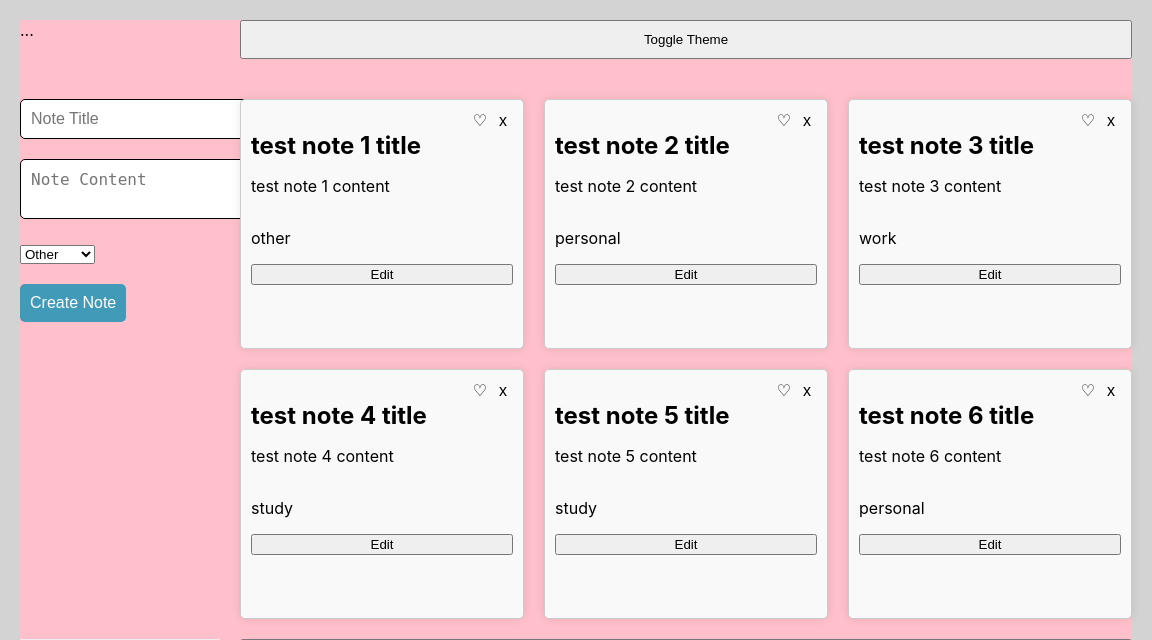
Test: Create StickyNote › Deletes note when x is clicked
Expected: the heading "test note 1 title" is shown, [251, 131, 421, 160]
Click the 1st button "x": (503, 120) [493, 110, 513, 131]
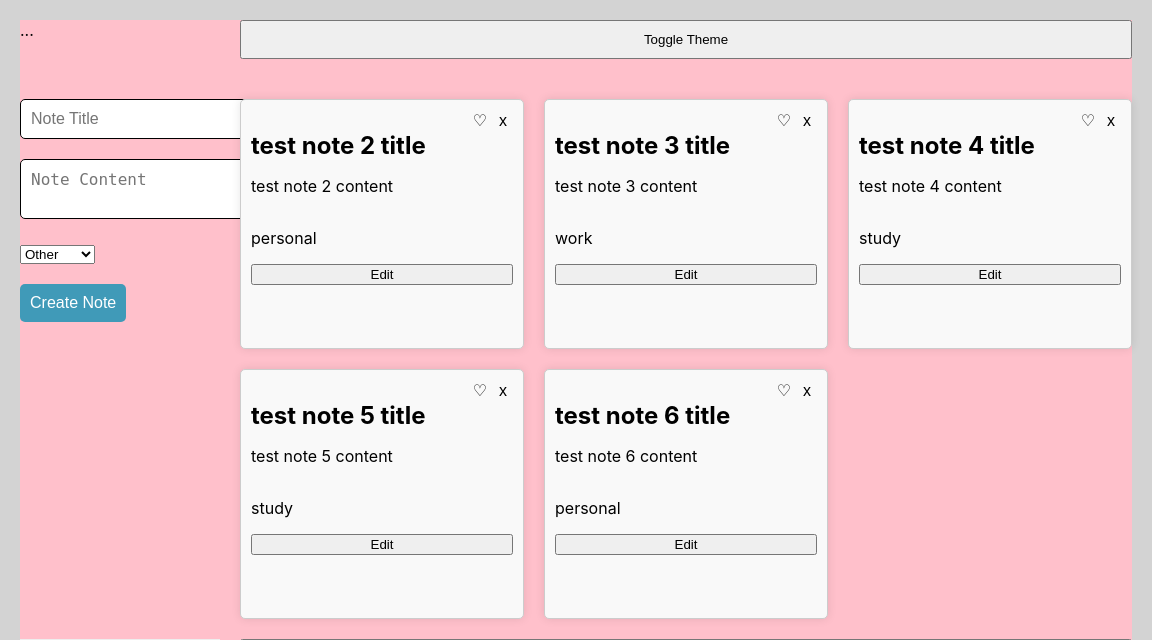
Now the heading "test note 1 title" is gone
